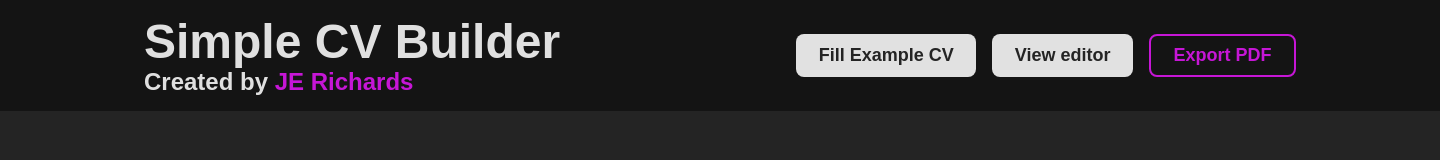
Scenario: Testing the Header component › Testing conditional rendering › Changing from preview to editor changes the buttons displayed
Check: the button "Fill Example CV" is shown, box [796,34,976,77]
Check: the button "View preview" is not shown
Click the button "View editor": (1063,56) [992,34,1133,77]
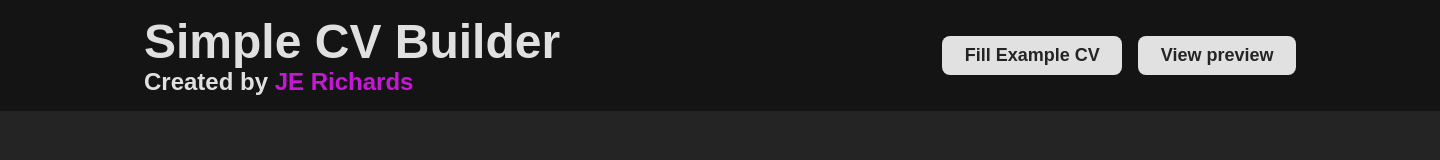
Check: the button "View preview" is shown, box [1138,36,1296,75]
Check: the button "View editor" is gone
Check: the button "Export PDF" is gone
